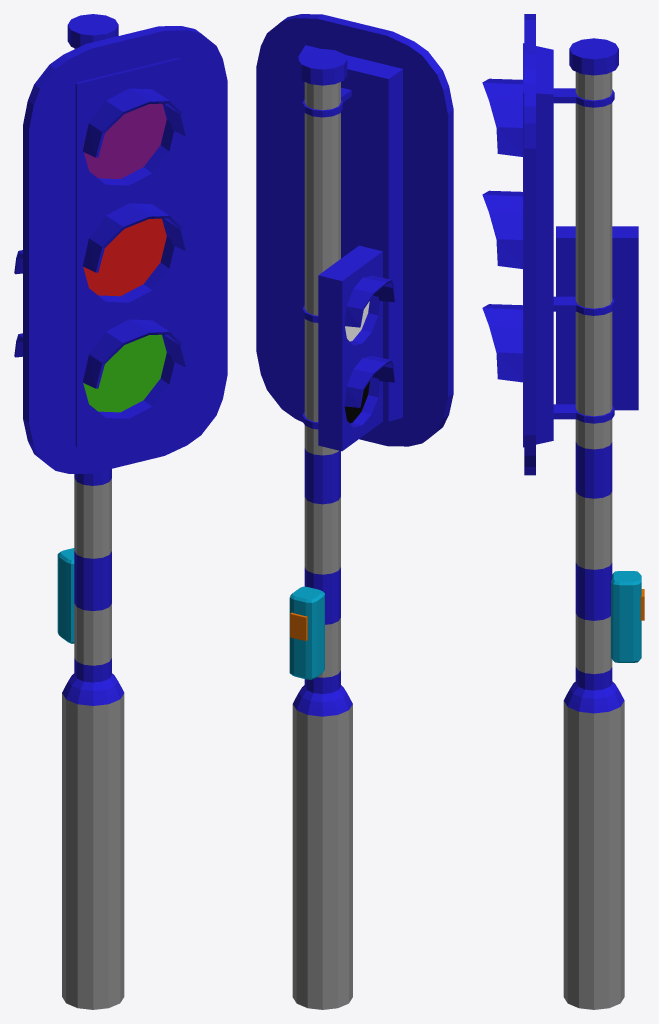
File: Stoplicht_Dubbel_1.FBX
The picture shows the model from 3 angles, left to right: view 1: azimuth 30°, elevation 25°; view 2: azimuth 150°, elevation 25°; view 3: azimuth 270°, elevation 25°; orthographic projection. The views are drawn at different scales.
Parts seen in each view (by area): view 1: Stoplicht2; view 2: Stoplicht2; view 3: Stoplicht2.
Part boxes in pixels (bbox=[...]): Stoplicht2: bbox=[14, 14, 227, 1009]; Stoplicht2: bbox=[256, 14, 453, 1009]; Stoplicht2: bbox=[482, 14, 644, 1009].
Size of the model in its own units: 51.44 by 243 by 37.31.
